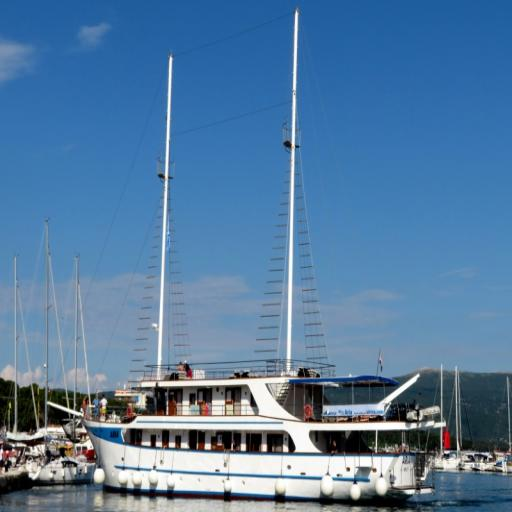cruises: (85, 357, 452, 508)
